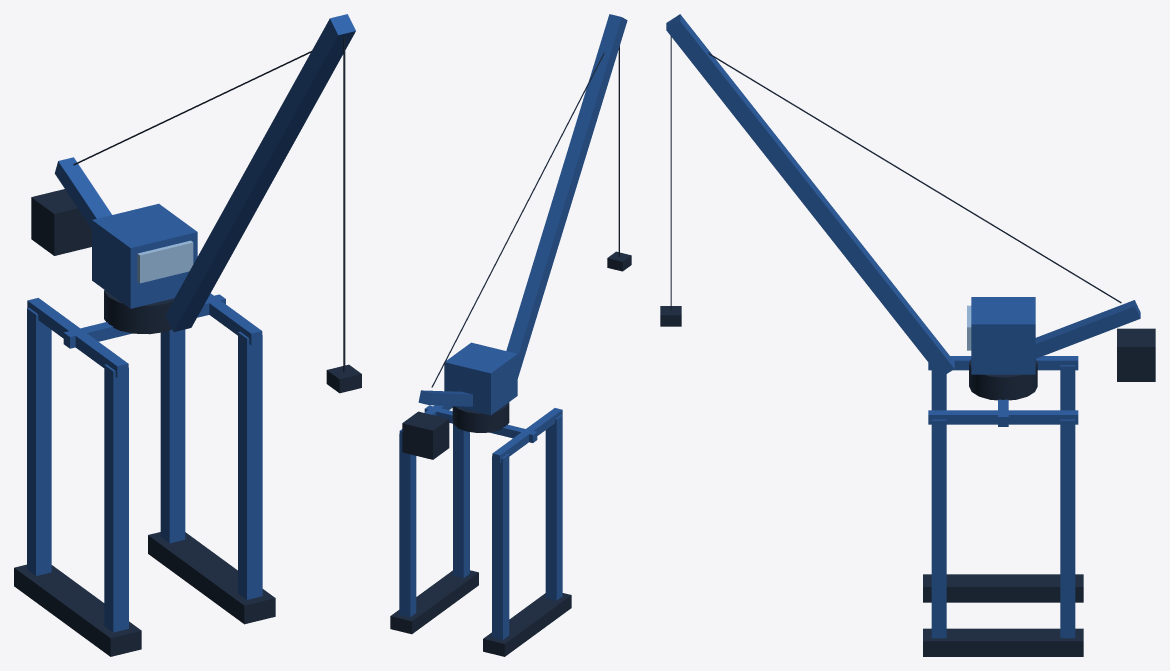
The model's file is dokcrane.obj.
3 views of the same model, side by side, from view 1: azimuth 30°, elevation 25°; view 2: azimuth 150°, elevation 25°; view 3: azimuth 270°, elevation 25° (orthographic). The views are drawn at different scales.
Parts seen in each view (by area): view 1: part13, part11, part4, part2, part1, part3, part6, part8, part15, part5, part10, part12.nocast (+6 smaller); view 2: part13, part11, part1, part2, part3, part4, part8, part6, part15, part10, part5, part14 (+4 smaller); view 3: part13, part11, part8, part6, part3, part4, part14, part15, part7, part10, part16.nocast, part5 (+1 smaller).
Boxes of the visible parts, x1=… form: part13: x1=165, y1=14, x2=355, y2=331; part11: x1=92, y1=203, x2=197, y2=308; part4: x1=238, y1=331, x2=262, y2=599; part2: x1=104, y1=364, x2=128, y2=632; part1: x1=27, y1=308, x2=51, y2=575; part3: x1=160, y1=329, x2=185, y2=543; part6: x1=14, y1=564, x2=141, y2=656; part8: x1=148, y1=532, x2=275, y2=624; part15: x1=31, y1=189, x2=91, y2=255; part5: x1=27, y1=298, x2=128, y2=377; part10: x1=104, y1=290, x2=174, y2=334; part12.nocast: x1=137, y1=240, x2=193, y2=283; part13: x1=506, y1=14, x2=627, y2=378; part11: x1=444, y1=342, x2=517, y2=415; part1: x1=492, y1=454, x2=509, y2=639; part2: x1=545, y1=414, x2=562, y2=600; part3: x1=399, y1=434, x2=416, y2=617; part4: x1=453, y1=424, x2=469, y2=578; part8: x1=390, y1=570, x2=478, y2=634; part6: x1=483, y1=593, x2=571, y2=656; part15: x1=402, y1=411, x2=449, y2=459; part10: x1=452, y1=402, x2=509, y2=432; part5: x1=492, y1=408, x2=562, y2=463; part14: x1=418, y1=390, x2=472, y2=406; part13: x1=666, y1=14, x2=954, y2=377; part11: x1=971, y1=297, x2=1035, y2=374; part8: x1=923, y1=628, x2=1083, y2=656; part6: x1=923, y1=574, x2=1083, y2=602; part3: x1=1060, y1=419, x2=1075, y2=638; part4: x1=931, y1=419, x2=946, y2=638; part14: x1=1035, y1=300, x2=1140, y2=358; part15: x1=1117, y1=328, x2=1155, y2=381; part7: x1=928, y1=410, x2=1078, y2=424; part10: x1=969, y1=359, x2=1037, y2=400; part16.nocast: x1=708, y1=52, x2=1121, y2=303; part5: x1=928, y1=356, x2=1078, y2=370.
Bounding box in the file's own units: 7.4 × 31.18 × 23.1.
